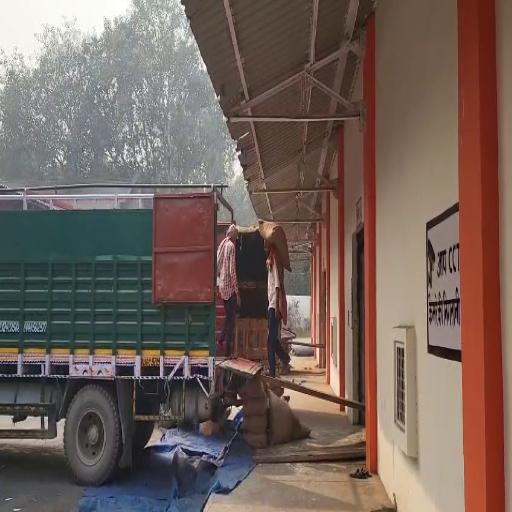bag: (258, 218, 294, 274)
